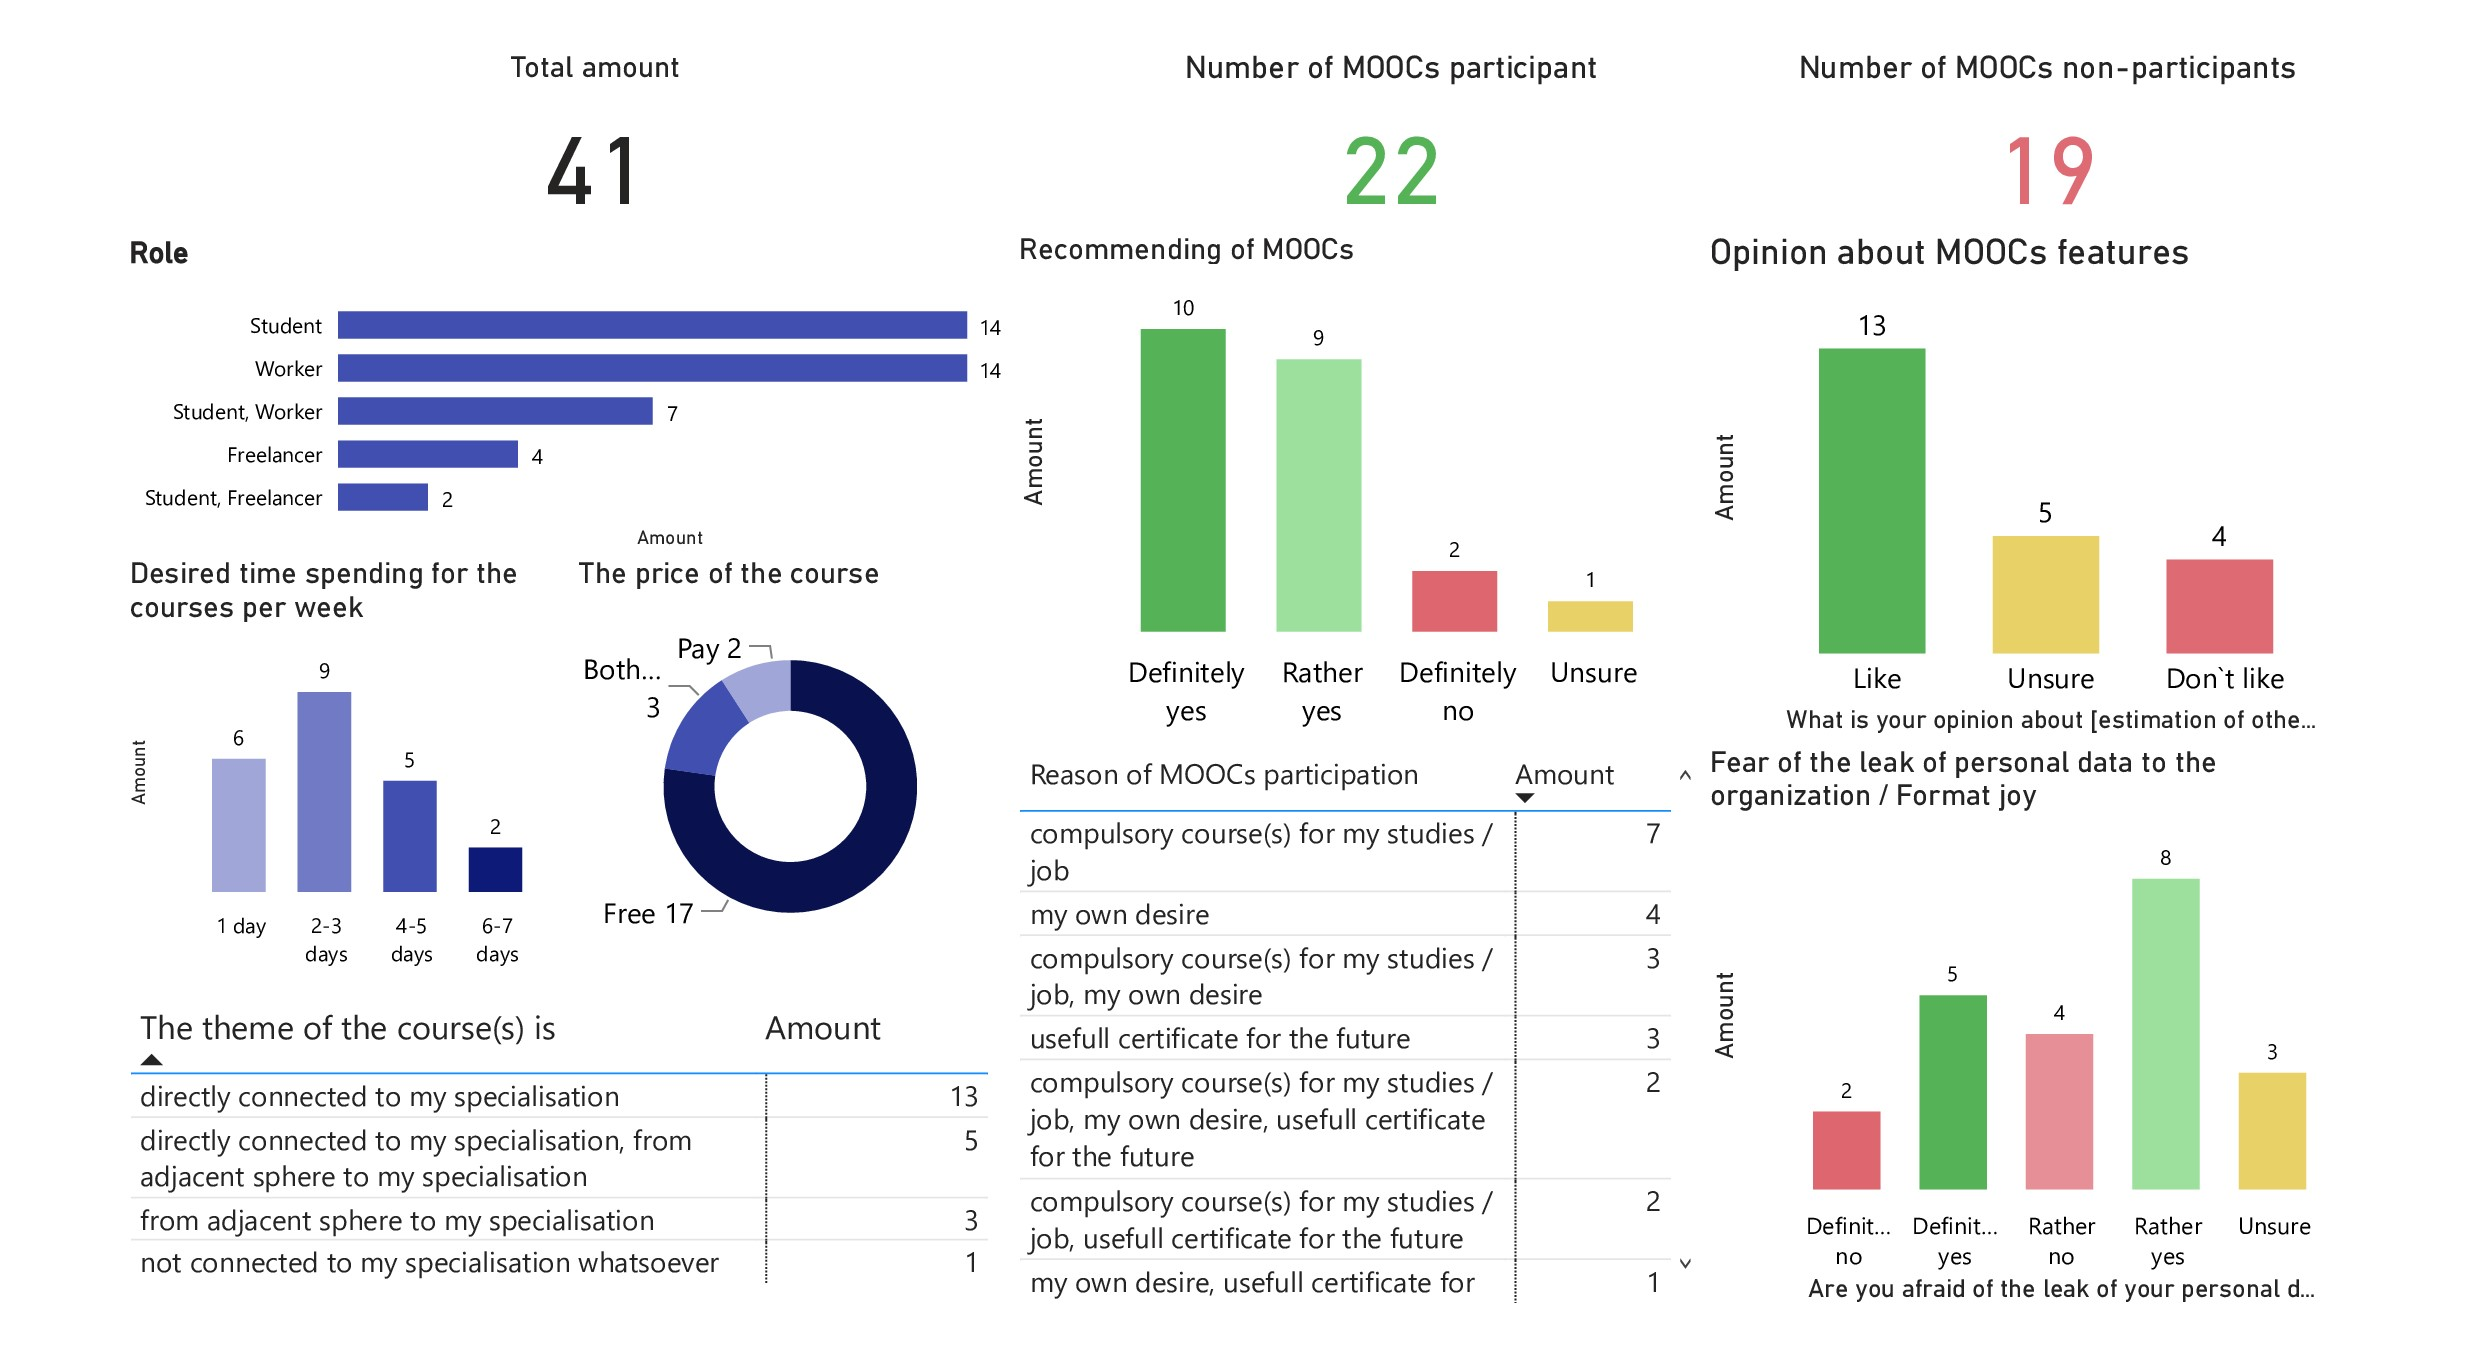

The dashboard page shown, as its layout file describes it:
{"tool":"powerbi","page":{"name":"Project","canvas":[1280,720],"ordinal":0},"visuals":[{"type":"card","title":"Total amount","fields":{"Values":["Count(Ответы на форму (1).Отметка времени)"]},"box":[10.2,0,520.7,104.7],"z":0},{"type":"donutChart","title":"The price of the course","fields":{"Category":["Ответы на форму (1).The price of the course"],"Y":["CountNonNull(Ответы на форму (1).The price of the course)"]},"box":[256,289.4,251.8,243.5],"z":1000},{"type":"card","title":"Number of MOOCs participant","fields":{"Values":["CountNonNull(Ответы на форму (1).I participate, because it is )"]},"box":[531.5,0,388.2,104.3],"z":2000},{"type":"card","title":"Number of MOOCs non-participants","fields":{"Values":["CountNonNull(Ответы на форму (1).Why haven`t you participated MOOCs?)"]},"box":[919.7,0,360.3,104.3],"z":3000},{"type":"clusteredColumnChart","title":"Desired time spending for the courses per week","fields":{"Category":["Ответы на форму (1).How much time would you like to spend on the course per week?"],"Y":["CountNonNull(Ответы на форму (1).How much time would you like to spend on the course per week?)"]},"box":[0,289.4,256,243.5],"z":4000},{"type":"clusteredBarChart","title":"Role","fields":{"Category":["Ответы на форму (1).Your role"],"Y":["CountNonNull(Ответы на форму (1).Your role)"]},"box":[0,105.7,507.8,183.7],"z":5000},{"type":"clusteredColumnChart","title":"Fear of the leak of personal data to the organization / Format joy","fields":{"Category":["Ответы на форму (1).Are you afraid of the leak of your personal data to your university or the organization, you are wor","Ответы на форму (1).Do you like the format of MOOCs?"],"Y":["CountNonNull(Ответы на форму (1).Are you afraid of the leak of your personal data to your university or the organization"]},"box":[903,396.5,377,324.2],"z":6000},{"type":"clusteredColumnChart","title":"Recommending of MOOCs","fields":{"Category":["Ответы на форму (1).Would you recommend MOOCs?"],"Y":["CountNonNull(Ответы на форму (1).Would you recommend MOOCs?)"]},"box":[507.8,104.3,395.1,292.2],"z":7000},{"type":"clusteredColumnChart","title":"Opinion about MOOCs features","fields":{"Category":["Ответы на форму (1).What is your opinion about [essays, reports, opened questions]","Ответы на форму (1).What is your opinion about [establishment of the own pace]","Ответы на форму (1).What is your opinion about [estimation of other students` works]","Ответы на форму (1).What is your opinion about [estimation of your works by other students]","Ответы на форму (1).What is your opinion about [personal progress tracking]","Ответы на форму (1).What is your opinion about [short videos]","Ответы на форму (1).What is your opinion about [strict deadlines]","Ответы на форму (1).What is your opinion about [teachers` comments about your works]","Ответы на форму (1).What is your opinion about [test-based questions]"],"Y":["CountNonNull(Ответы на форму (1).What is your opinion about [essays, reports, opened questions])"]},"box":[903,104.3,377,292.2],"z":8000},{"type":"tableEx","fields":{"Values":["Ответы на форму (1).The theme of the course(s) is","CountNonNull(Ответы на форму (1).The theme of the course(s) is)"]},"box":[0,539.8,507.8,180.9],"z":9000},{"type":"tableEx","fields":{"Values":["Ответы на форму (1).I participate, because it is ","CountNonNull(Ответы на форму (1).I participate, because it is )"]},"box":[507.8,396.5,395.1,324.2],"z":10000}]}

Visuals, with their boxes in screenshot pixels (x1, y1, x2, y2), scaled from the page's 1280x720 canvas onto the 2479x1359 screenshot:
"Total amount" card: {"left": 20, "top": 0, "right": 1028, "bottom": 198}
"The price of the course" donutChart: {"left": 496, "top": 546, "right": 983, "bottom": 1006}
"Number of MOOCs participant" card: {"left": 1029, "top": 0, "right": 1781, "bottom": 197}
"Number of MOOCs non-participants" card: {"left": 1781, "top": 0, "right": 2478, "bottom": 197}
"Desired time spending for the courses per week" clusteredColumnChart: {"left": 0, "top": 546, "right": 496, "bottom": 1006}
"Role" clusteredBarChart: {"left": 0, "top": 200, "right": 983, "bottom": 546}
"Fear of the leak of personal data to the organization / Format joy" clusteredColumnChart: {"left": 1749, "top": 748, "right": 2478, "bottom": 1358}
"Recommending of MOOCs" clusteredColumnChart: {"left": 983, "top": 197, "right": 1749, "bottom": 748}
"Opinion about MOOCs features" clusteredColumnChart: {"left": 1749, "top": 197, "right": 2478, "bottom": 748}
tableEx - Ответы на форму (1).The theme of the course(s) is x CountNonNull(Ответы на форму (1).The theme of the course(s) is): {"left": 0, "top": 1019, "right": 983, "bottom": 1358}
tableEx - Ответы на форму (1).I participate, because it is  x CountNonNull(Ответы на форму (1).I participate, because it is ): {"left": 983, "top": 748, "right": 1749, "bottom": 1358}
